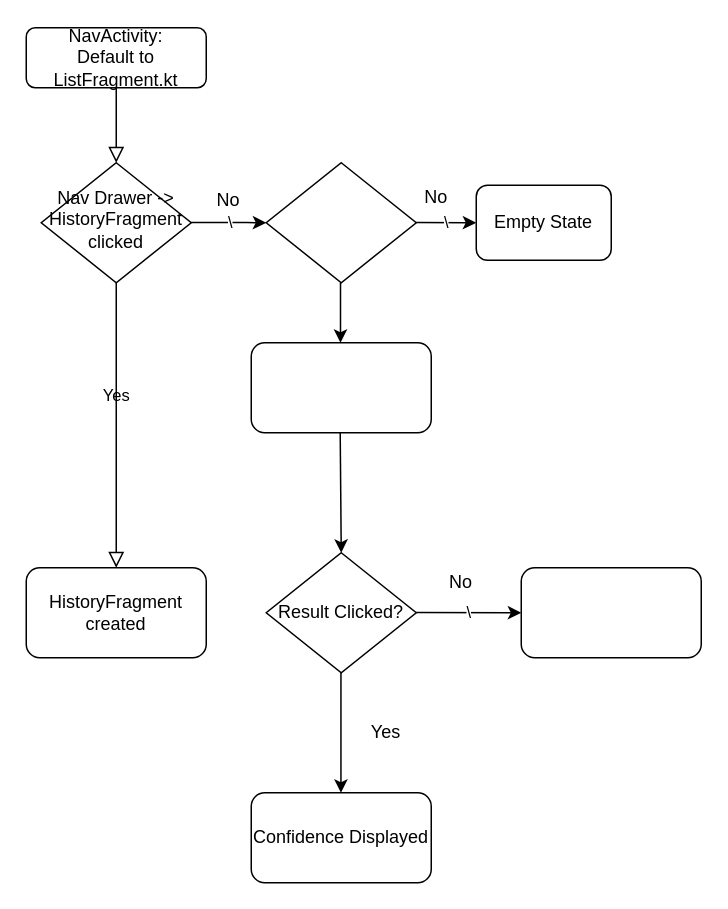
Some shapes in this 728 by 909 pixel diagram are drawn without their labels. The shapes that lost their labels are listed below. From the top down, each one's centre as x and y in pixels, then its label:
At (x=340, y=222): "Queried?".
At (x=340, y=387): "Tweet Results".
At (x=610, y=612): "No Action".
